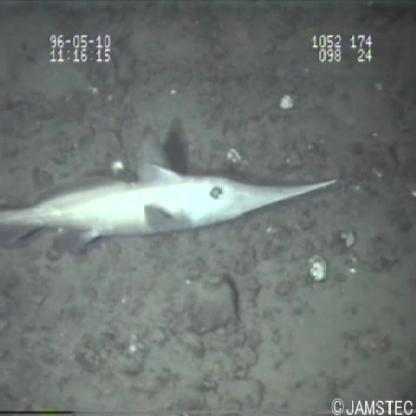Bio: (1, 120, 340, 260)
